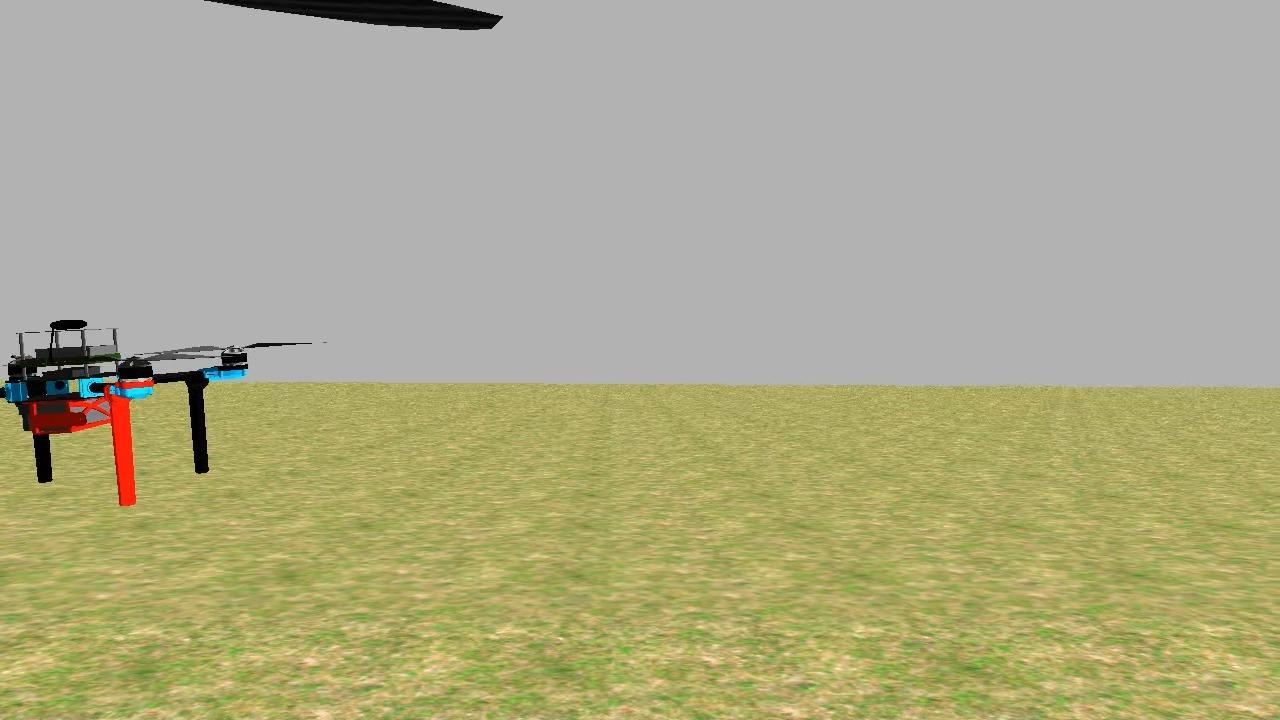UAV: (0, 296, 270, 550)
